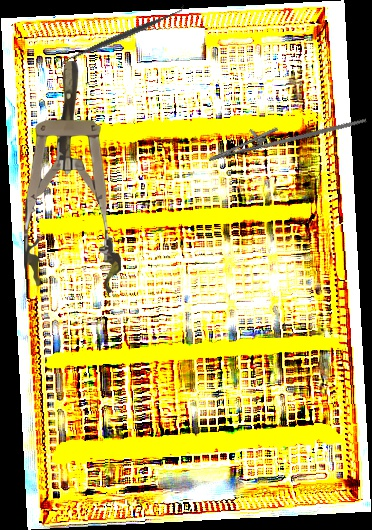Needle Holder: (204, 89, 367, 180)
Spatula Surgical: (55, 2, 189, 71)
Speculum: (24, 61, 121, 293)
